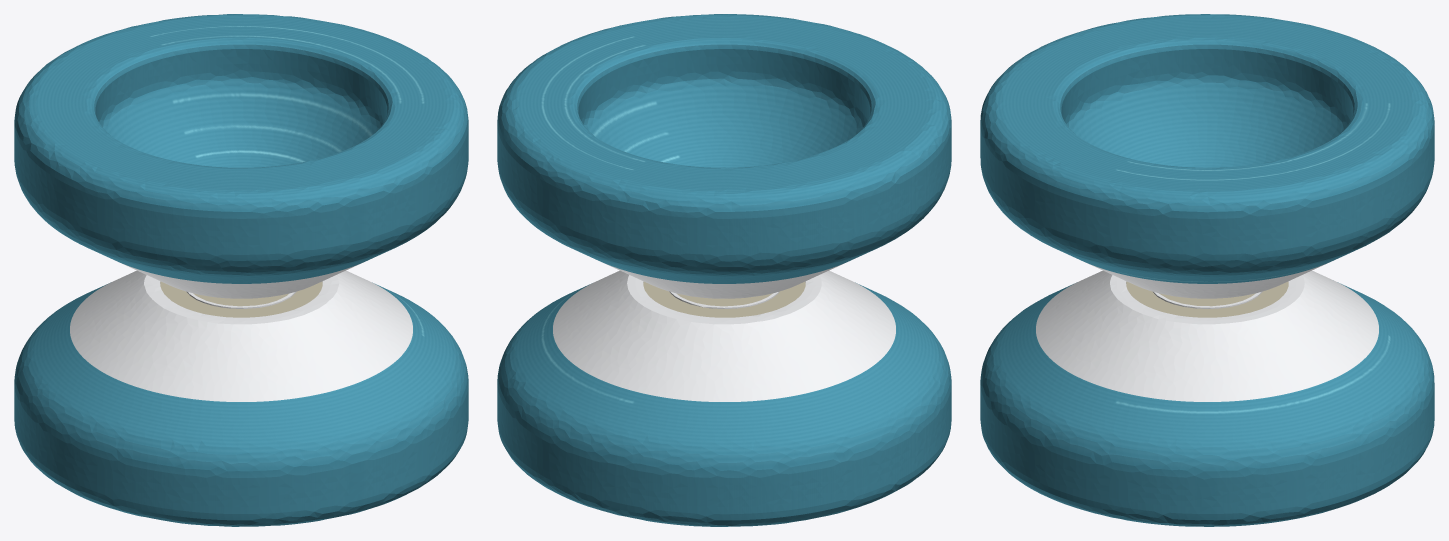
The model's file is yoyo-ball.glb.
The picture shows the model from 3 angles, left to right: view 1: azimuth 30°, elevation 25°; view 2: azimuth 150°, elevation 25°; view 3: azimuth 270°, elevation 25°; orthographic projection.
Visible parts, largest first — view 1: top_dome, bottom_dome, bottom_rim, bottom_ring, top_rim; view 2: top_dome, bottom_dome, bottom_rim, bottom_ring, top_rim; view 3: top_dome, bottom_dome, bottom_rim, bottom_ring, top_rim.
Boxes of the visible parts, bbox=[...] form: top_dome: bbox=[14, 14, 468, 283]; bottom_dome: bbox=[14, 282, 468, 526]; bottom_rim: bbox=[70, 270, 412, 401]; bottom_ring: bbox=[160, 281, 322, 317]; top_rim: bbox=[121, 263, 361, 298]; top_dome: bbox=[497, 14, 951, 283]; bottom_dome: bbox=[497, 282, 951, 526]; bottom_rim: bbox=[553, 270, 895, 401]; bottom_ring: bbox=[643, 281, 805, 317]; top_rim: bbox=[606, 264, 842, 298]; top_dome: bbox=[980, 14, 1434, 283]; bottom_dome: bbox=[980, 282, 1434, 526]; bottom_rim: bbox=[1036, 270, 1378, 401]; bottom_ring: bbox=[1126, 281, 1288, 317]; top_rim: bbox=[1087, 263, 1327, 298].
Size of the model in its own units: 0.0532 by 0.0432 by 0.0532.
Materials: 8 (2 with a texture image).
